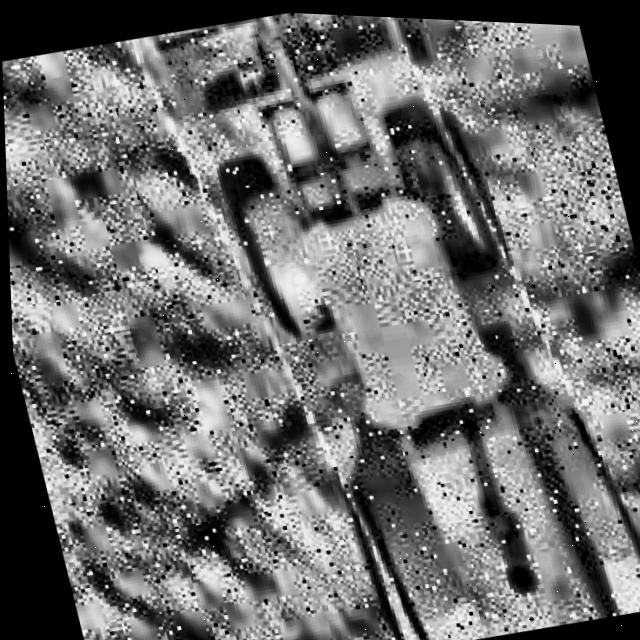buldozerpayloadergrader: (141, 5, 640, 640)
